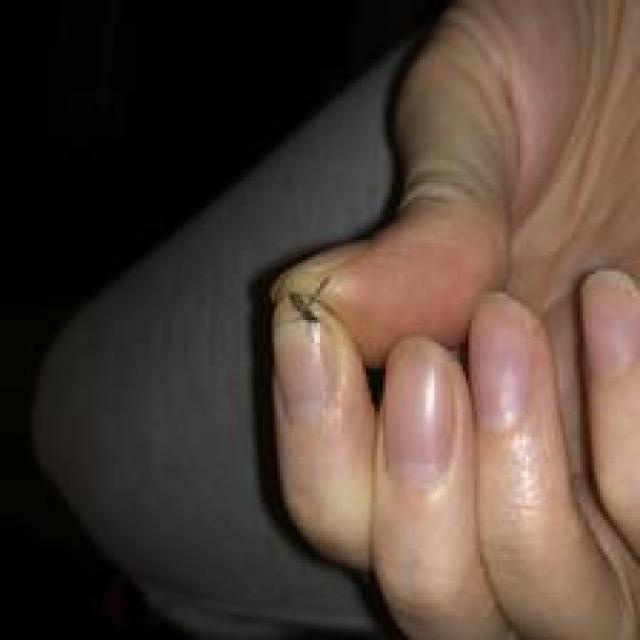Culex: (287, 274, 333, 326)
